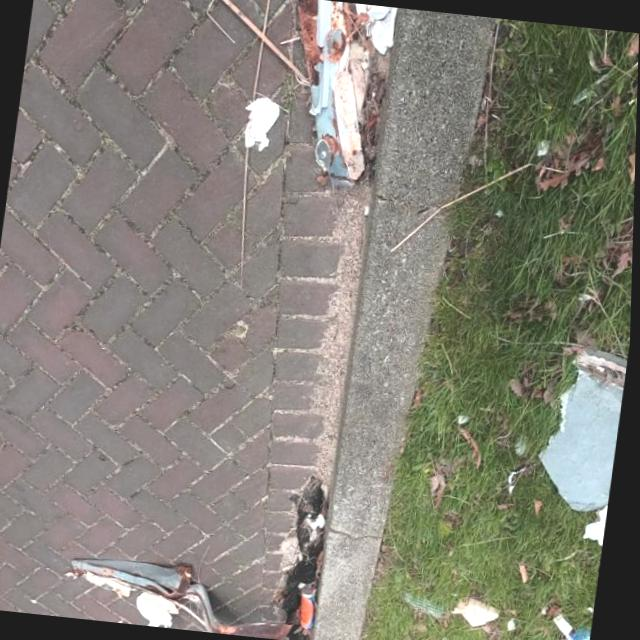Can-Metal: (294, 583, 322, 636)
